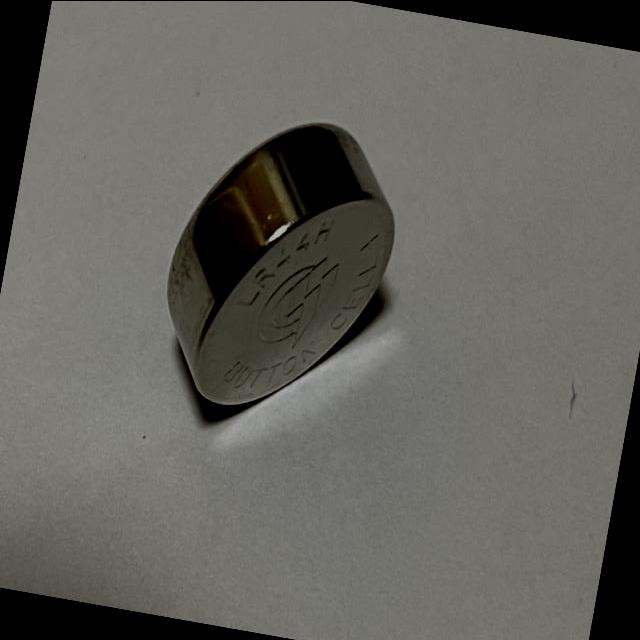COIN: (146, 100, 416, 432)
